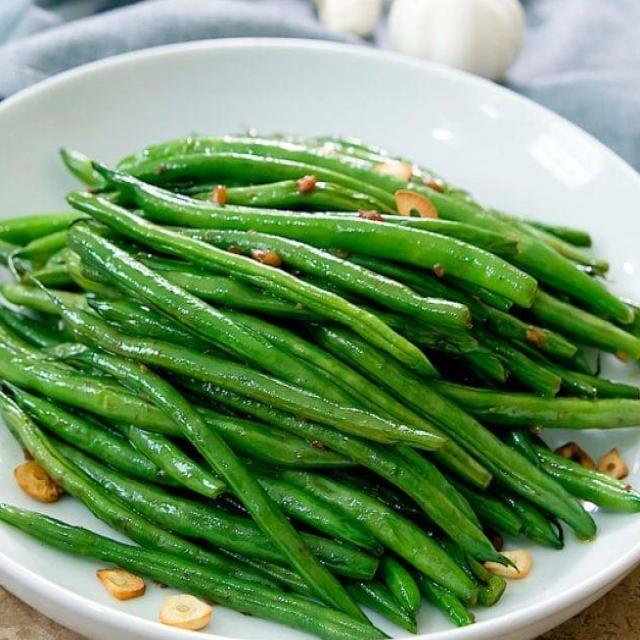Beans: (0, 95, 639, 639)
